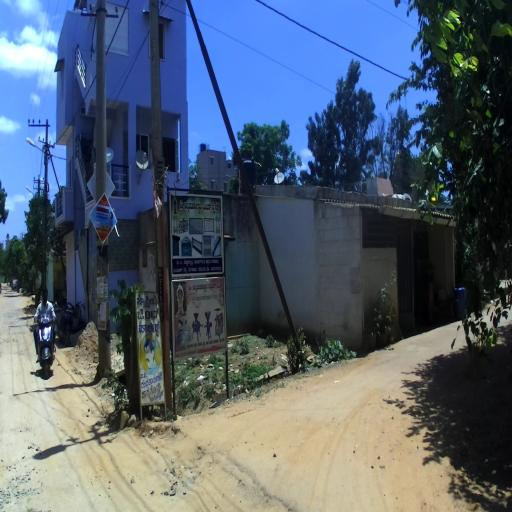street_light_0: (26, 137, 48, 165), (26, 186, 36, 196)
